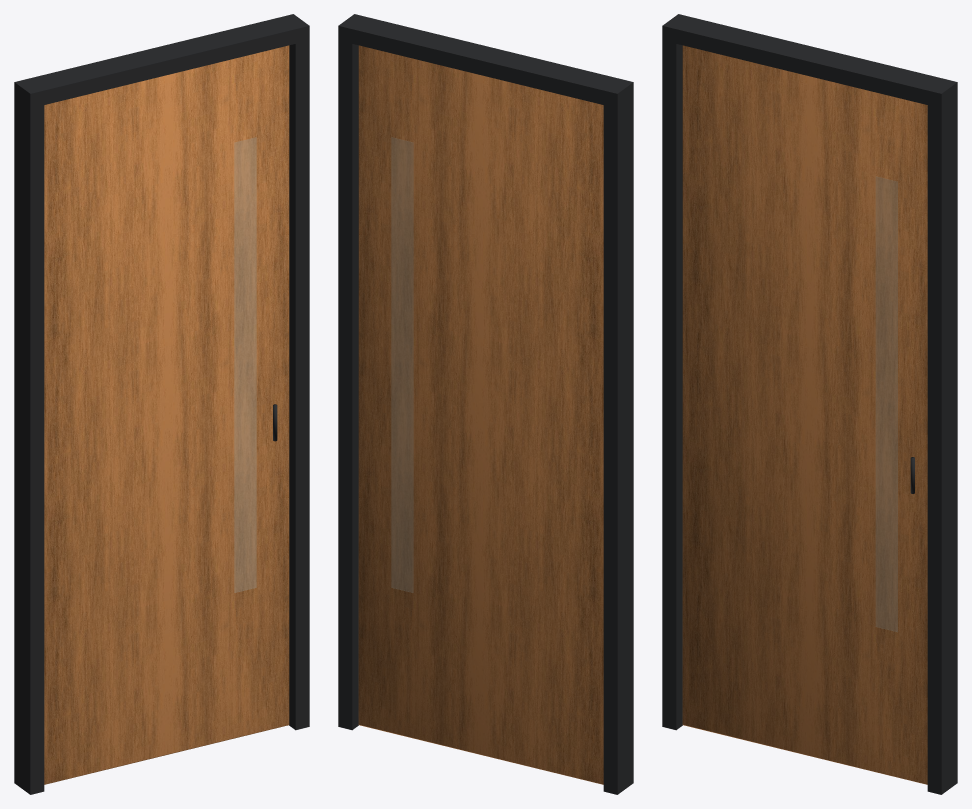
The model's file is architecture.wood-door-with-vertical-glass.glb.
The picture shows the model from 3 angles, left to right: view 1: azimuth 30°, elevation 25°; view 2: azimuth 150°, elevation 25°; view 3: azimuth 330°, elevation 25°; orthographic projection.
Parts seen in each view (by area): view 1: architecture.wood-door-with-vertical-glass.001; view 2: architecture.wood-door-with-vertical-glass.001; view 3: architecture.wood-door-with-vertical-glass.001.
Part boxes in pixels (left/top/right/bottom): architecture.wood-door-with-vertical-glass.001: left=14, top=14, right=309, bottom=794; architecture.wood-door-with-vertical-glass.001: left=338, top=14, right=633, bottom=794; architecture.wood-door-with-vertical-glass.001: left=662, top=14, right=957, bottom=794.
Size of the model in its own units: 1 by 2.4 by 0.1.
Materials: 3 (1 with a texture image).
